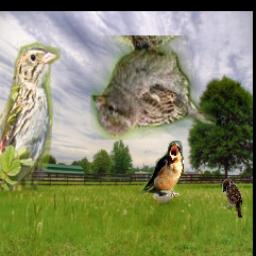Sparrow: (90, 36, 216, 141), (0, 38, 62, 190), (223, 179, 243, 219)
Swallow: (141, 142, 184, 197)
